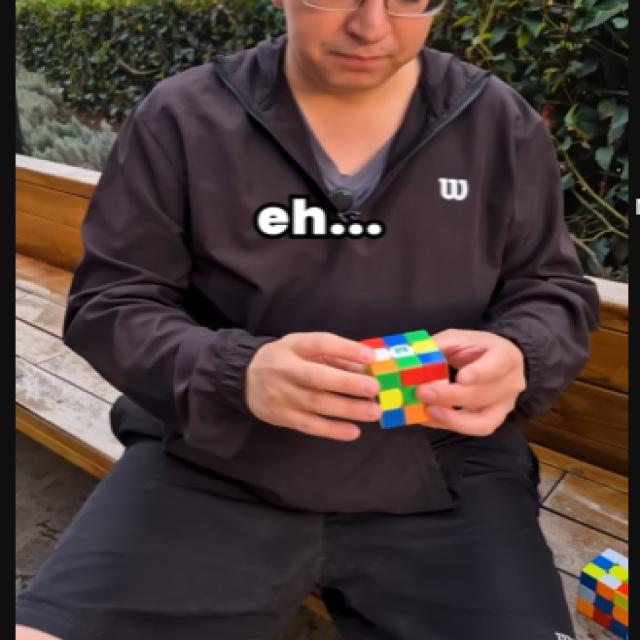Cubo-No-resuelto: (340, 318, 456, 433)
